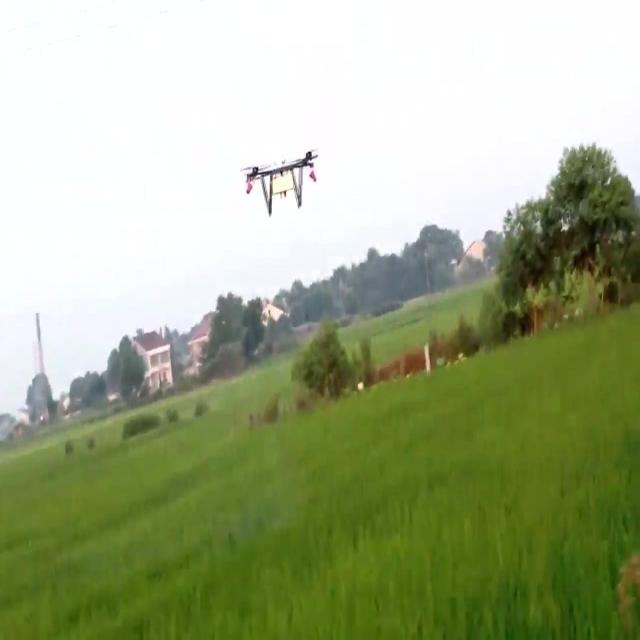drone: (242, 145, 318, 217)
